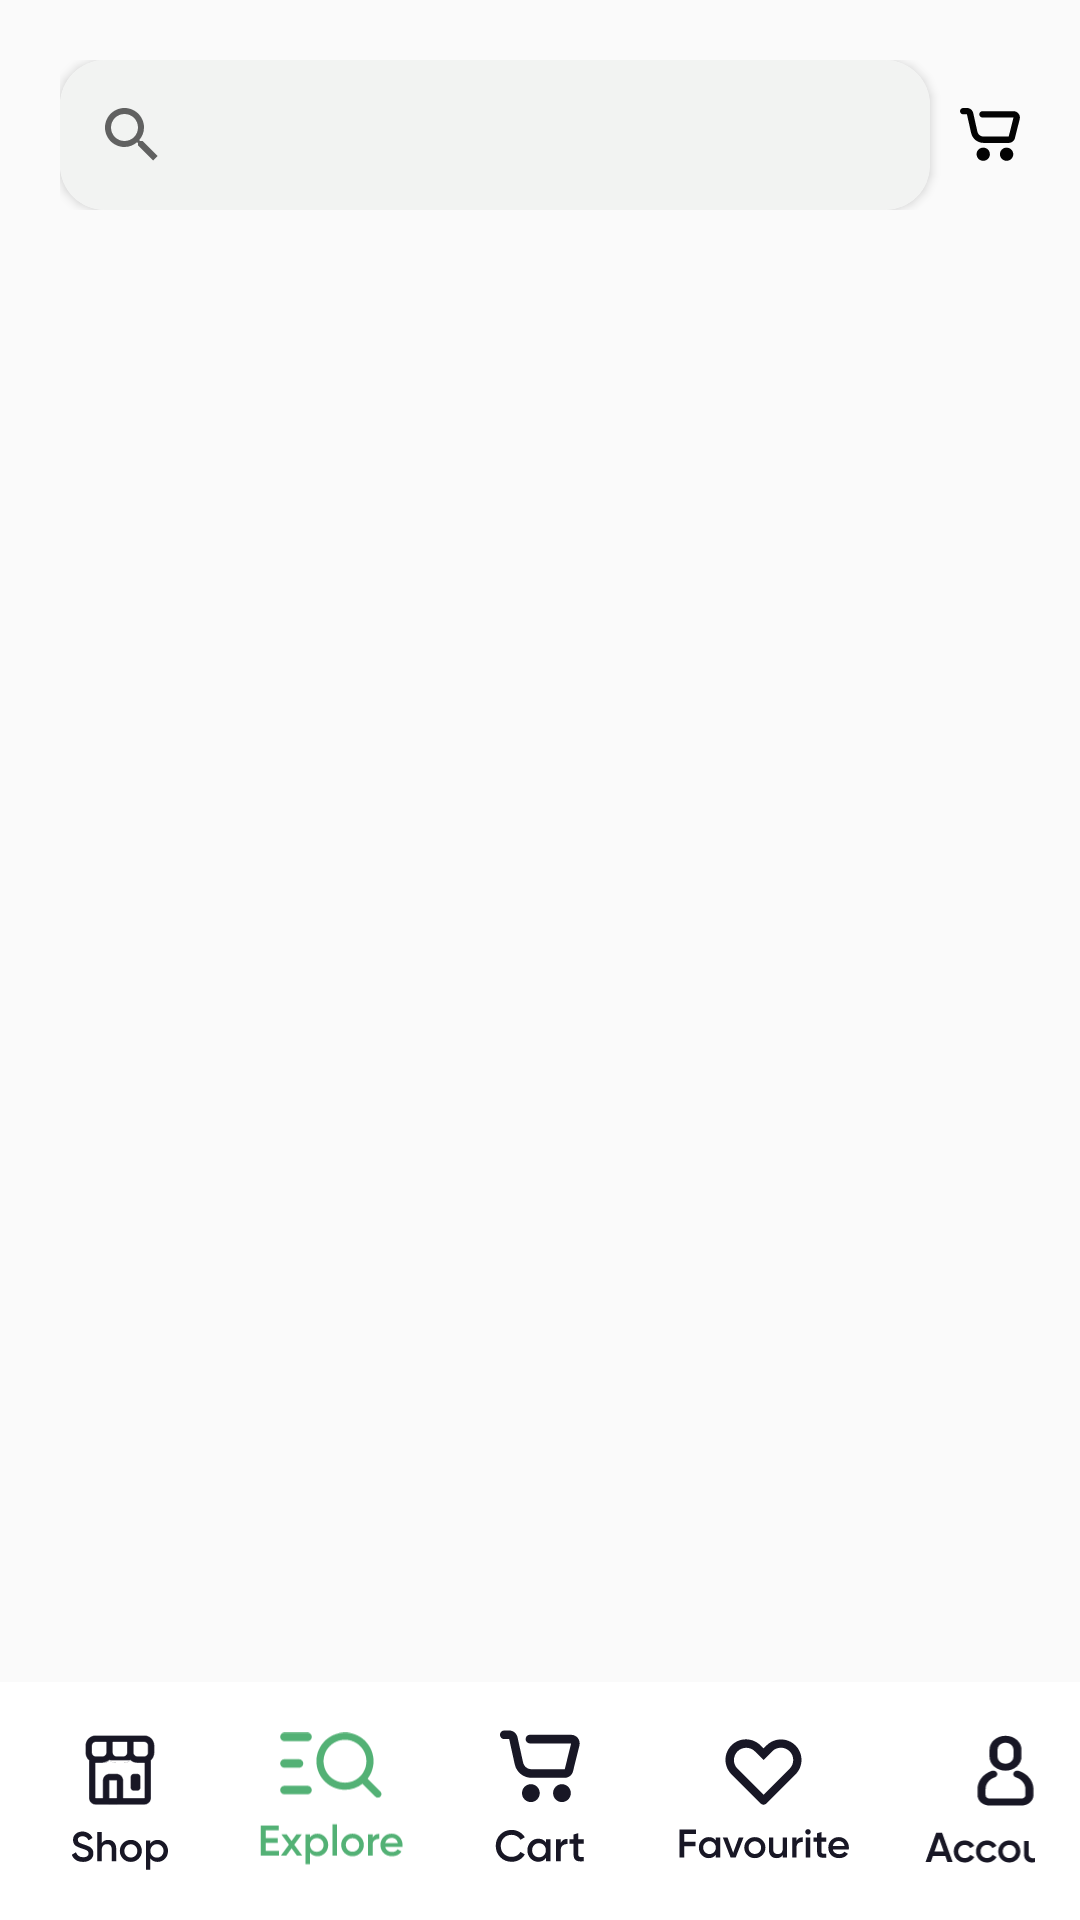

Locate icon controls on the screen. Image size 1080 x 1920, boxes as bbox=[x1, y1, x2, y2].
cart search: bbox=[960, 108, 1020, 161]
